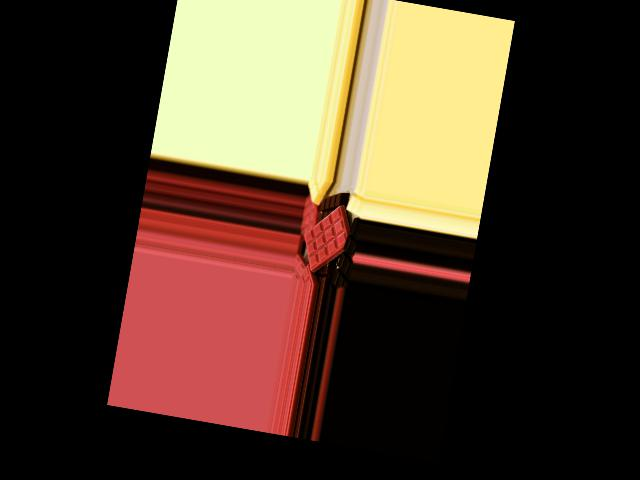chocolate: (296, 200, 363, 279)
